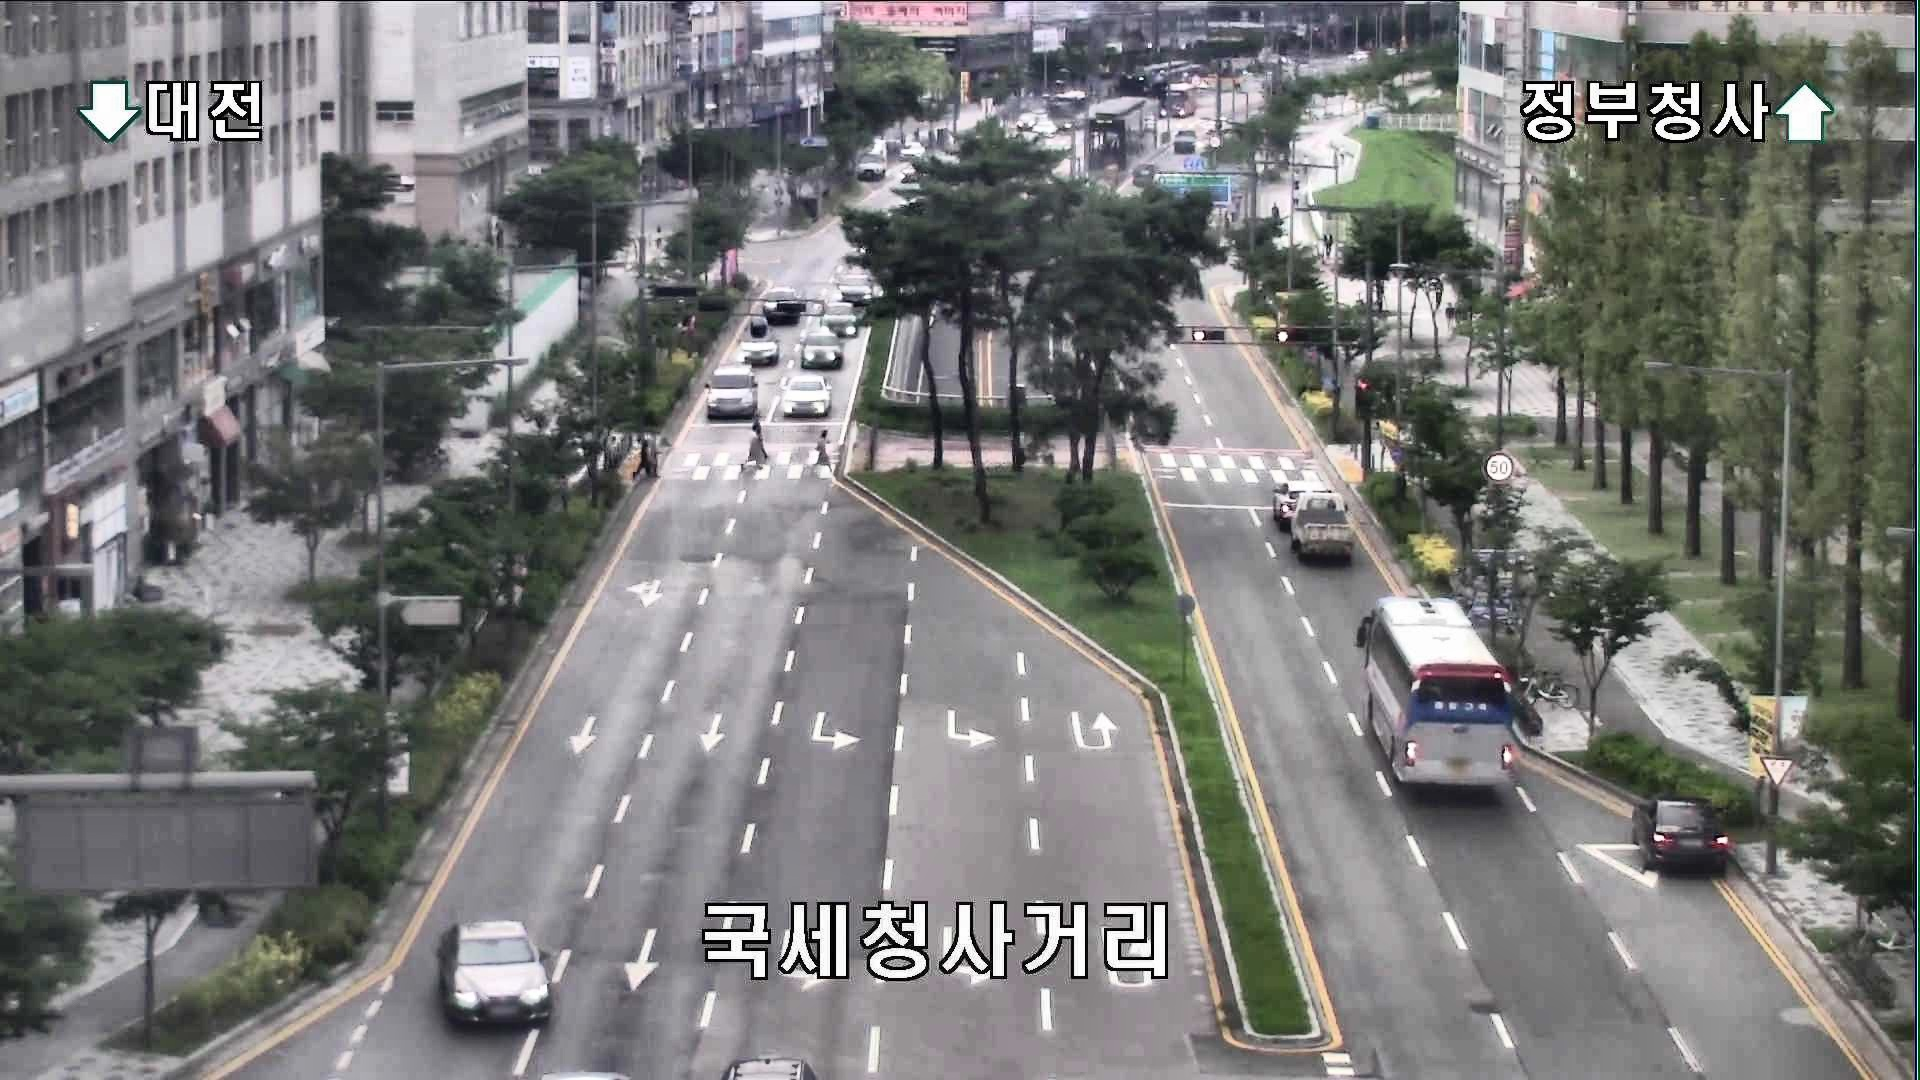crosswalk: (736, 413, 769, 469), (632, 429, 661, 483), (807, 429, 833, 475)
